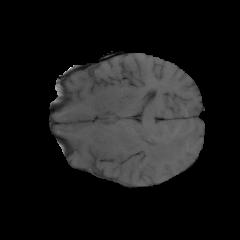glioma: (124, 127, 193, 166)
